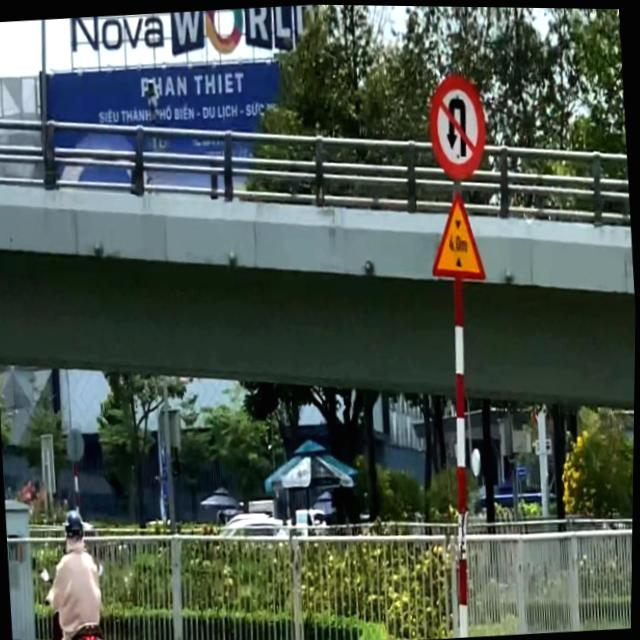Cam quay dau xe: (426, 69, 489, 181)
Chieu cao an toan: (427, 187, 488, 282)
